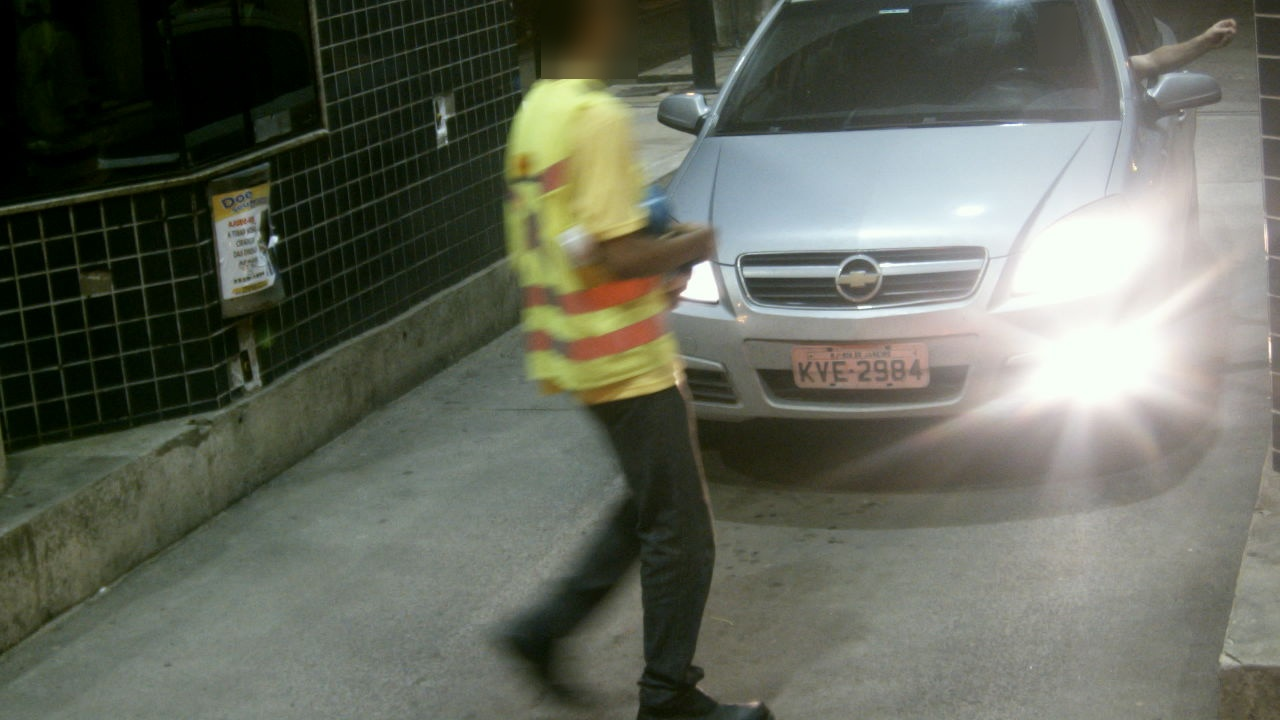placa: (790, 341, 930, 390)
